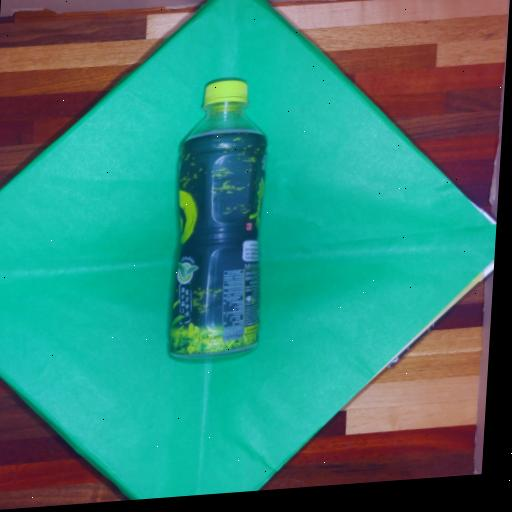bottle: (156, 65, 293, 386)
